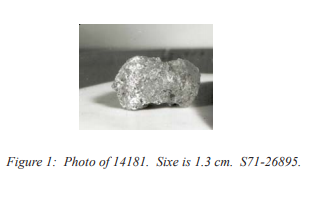Basalt: (103, 46, 209, 112)
